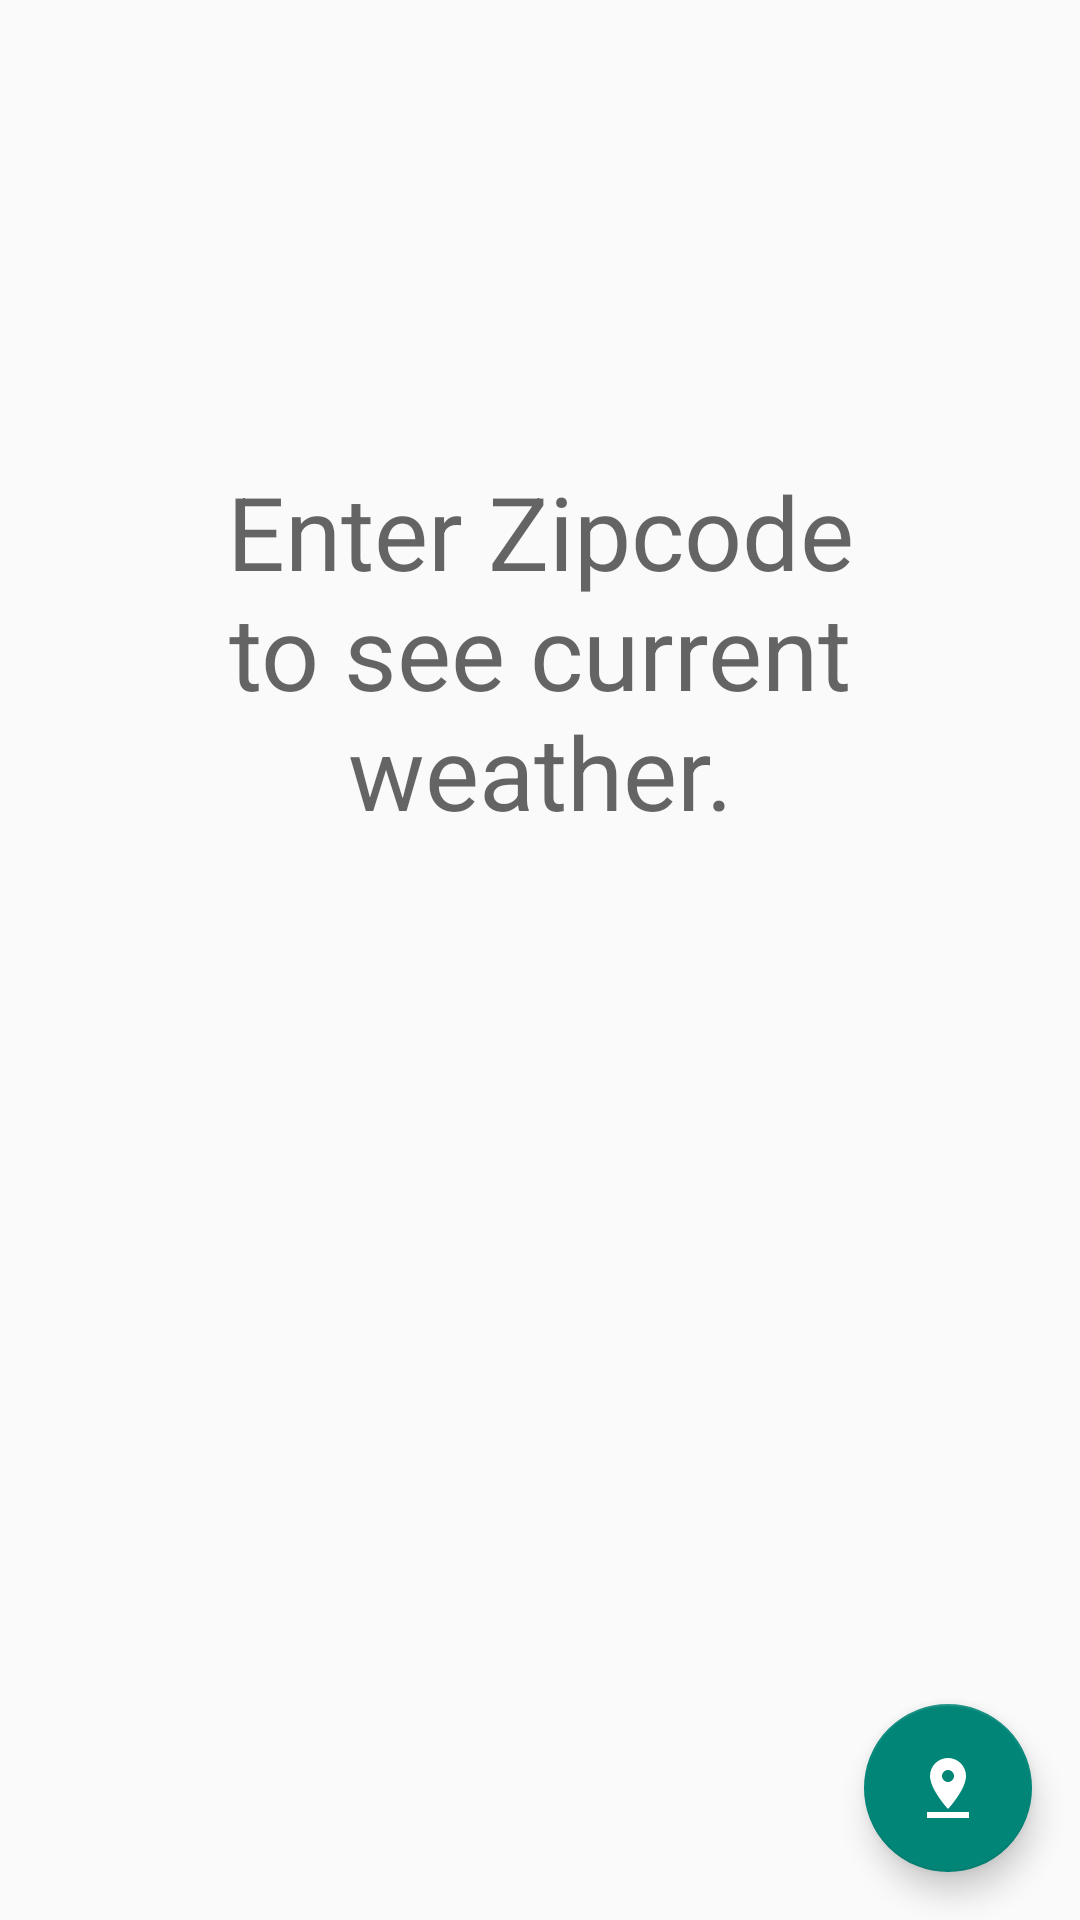

Point at icon controls on the screen. Image size 1080 x 1920, points as point (x, y).
pin drop: point (948, 1788)
